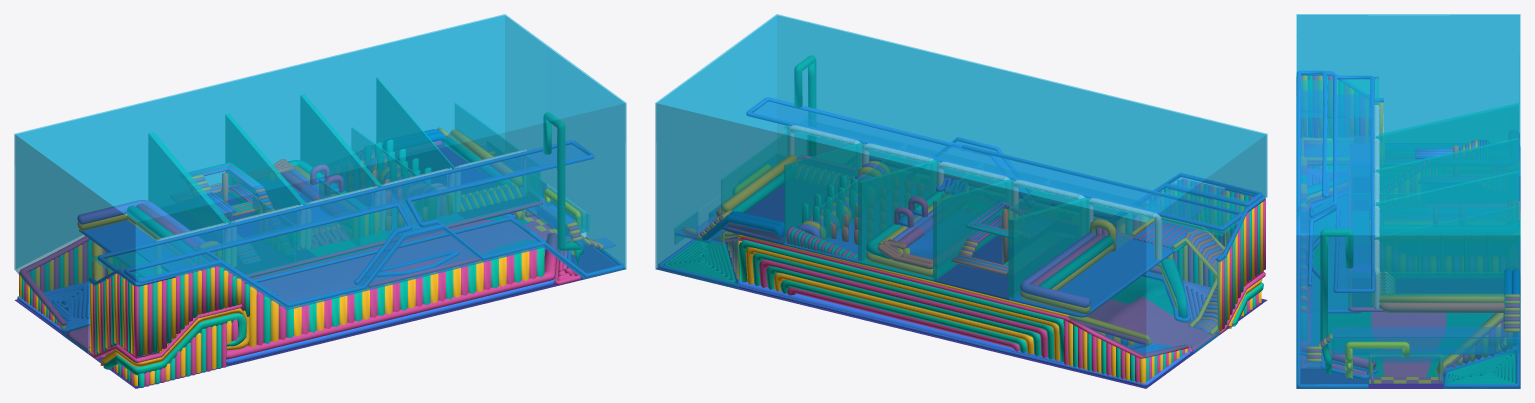
Rendered from dcl_knockout_stadium2.glb.
3 renders of one model, left to right at view 1: azimuth 30°, elevation 25°; view 2: azimuth 150°, elevation 25°; view 3: azimuth 270°, elevation 25°, orthographic. The views are drawn at different scales.
Visible parts, largest first — view 1: externalWall, course_glass_walls, interior_glass_walls, Cylinder.033, platform.001, newCourse_mod, platform, Cylinder.214, game_floor, Cylinder.211, Cylinder.032, newArch (+16 smaller); view 2: externalWall, course_glass_walls, game_floor, platform, Cylinder.214, interior_glass_walls, newCourse_mod, Cylinder.211, newArch, inner_course_walls, Cylinder.014, Cylinder.016 (+28 smaller); view 3: externalWall, course_glass_walls, newCourse_mod, platform, platform.001, Cylinder.214, interior_glass_walls, Cylinder.211, knockout_lower_plat, front_ramp, game_floor, start_gate_glass (+19 smaller).
Part boxes in pixels (bbox=[...]): externalWall: bbox=[14, 14, 626, 353]; course_glass_walls: bbox=[148, 77, 454, 230]; interior_glass_walls: bbox=[91, 103, 540, 283]; Cylinder.033: bbox=[286, 246, 544, 338]; platform.001: bbox=[161, 203, 583, 309]; newCourse_mod: bbox=[66, 216, 547, 353]; platform: bbox=[135, 144, 586, 262]; Cylinder.214: bbox=[17, 217, 624, 332]; game_floor: bbox=[79, 142, 533, 277]; Cylinder.211: bbox=[98, 140, 594, 284]; Cylinder.032: bbox=[226, 232, 557, 359]; newArch: bbox=[155, 149, 528, 274]; externalWall: bbox=[655, 14, 1267, 357]; course_glass_walls: bbox=[784, 142, 1089, 297]; game_floor: bbox=[721, 184, 1173, 317]; platform: bbox=[754, 101, 1205, 218]; Cylinder.214: bbox=[658, 137, 1262, 386]; interior_glass_walls: bbox=[721, 126, 1247, 235]; newCourse_mod: bbox=[1087, 276, 1218, 351]; Cylinder.211: bbox=[746, 97, 1242, 230]; newArch: bbox=[787, 124, 1162, 259]; inner_course_walls: bbox=[820, 155, 1050, 240]; Cylinder.014: bbox=[738, 240, 1064, 362]; Cylinder.016: bbox=[752, 253, 1054, 359]; externalWall: bbox=[1296, 14, 1520, 388]; course_glass_walls: bbox=[1375, 103, 1518, 272]; newCourse_mod: bbox=[1311, 200, 1494, 377]; platform: bbox=[1337, 94, 1370, 288]; platform.001: bbox=[1301, 90, 1347, 368]; Cylinder.214: bbox=[1296, 70, 1519, 388]; interior_glass_walls: bbox=[1301, 77, 1505, 307]; Cylinder.211: bbox=[1307, 75, 1375, 292]; knockout_lower_plat: bbox=[1331, 333, 1518, 354]; front_ramp: bbox=[1307, 327, 1519, 368]; game_floor: bbox=[1352, 146, 1520, 311]; start_gate_glass: bbox=[1368, 354, 1443, 383].
Size of what is drawn, in the model's own units: 112 by 37.74 by 48.
Materials: 17 (16 with a texture image).
